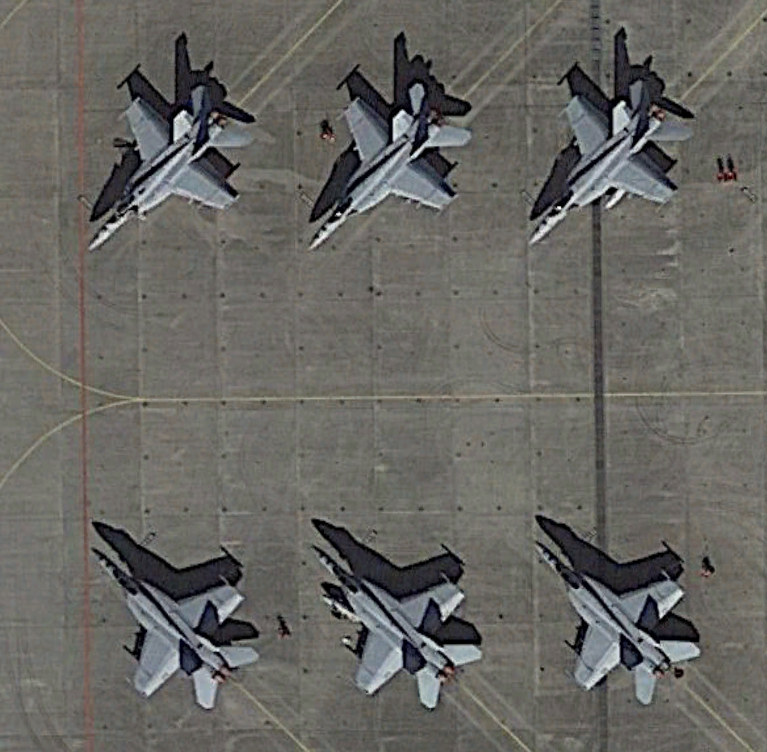A16: (85, 72, 262, 268), (296, 66, 473, 262), (525, 57, 702, 253), (87, 519, 264, 715), (308, 519, 485, 715), (526, 524, 703, 720)
